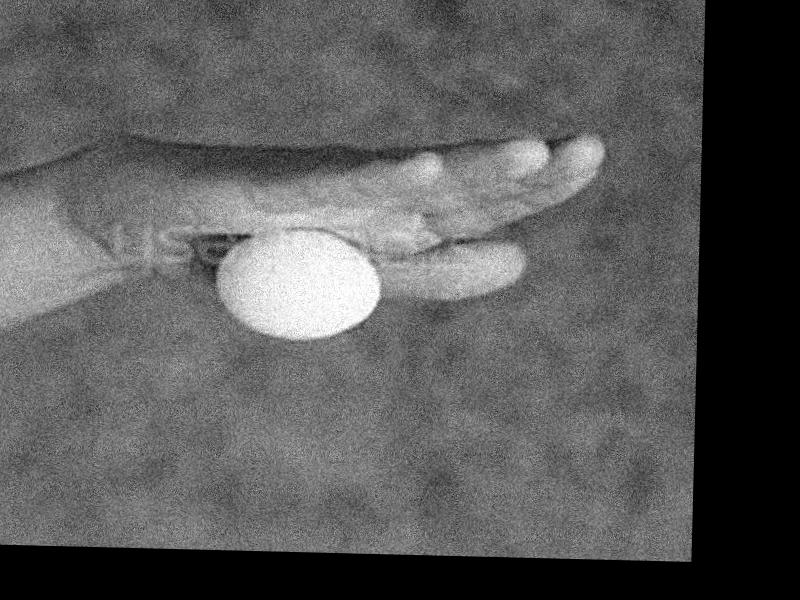Eggs: (214, 227, 380, 344)
